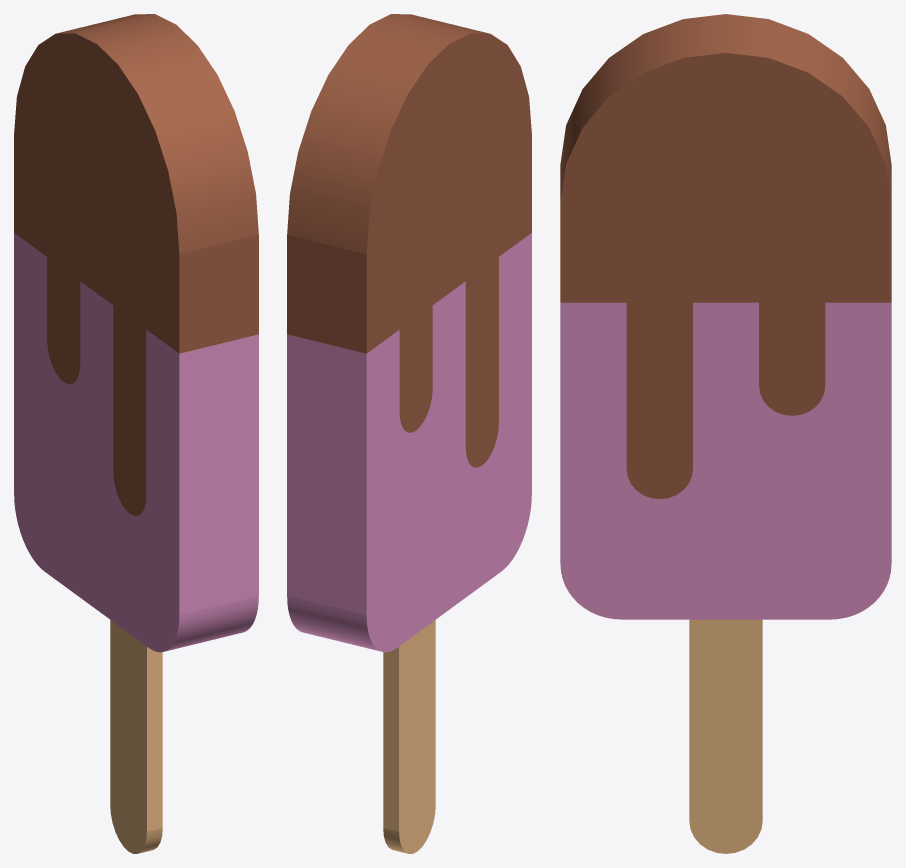
Rendered from popsicleChocolate.obj.
3 renders of one model, left to right at view 1: azimuth 30°, elevation 25°; view 2: azimuth 150°, elevation 25°; view 3: azimuth 270°, elevation 25°, orthographic.
Parts seen in each view (by area): view 1: popsicleChocolate; view 2: popsicleChocolate; view 3: popsicleChocolate.
Part boxes in pixels (<box>): popsicleChocolate: <box>14,14,258,853</box>; popsicleChocolate: <box>287,14,531,853</box>; popsicleChocolate: <box>560,14,891,853</box>.
Bounding box in the file's own units: 0.05 × 0.49 × 0.18.
